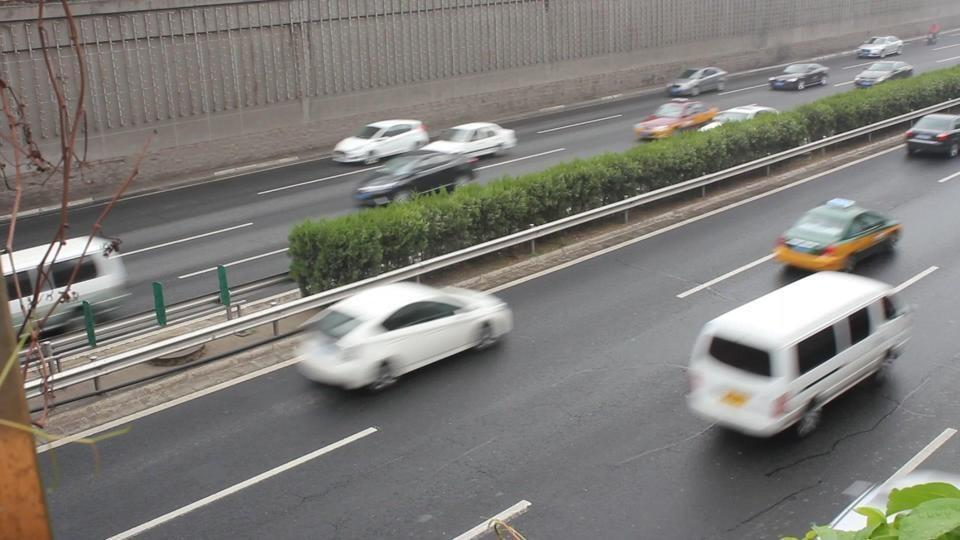car: (294, 281, 514, 395), (770, 196, 904, 274), (354, 147, 480, 208), (331, 118, 430, 166), (632, 99, 721, 142), (425, 121, 518, 158), (904, 114, 960, 159), (667, 66, 729, 98), (853, 59, 914, 90), (768, 62, 830, 92), (857, 34, 904, 59)
